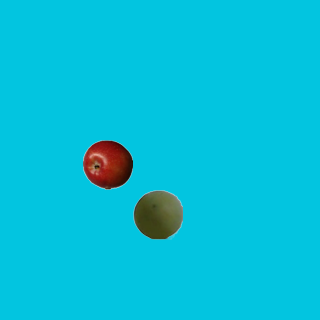Apple Braeburn: (82, 139, 132, 189)
Grape White 4: (132, 189, 182, 239)
